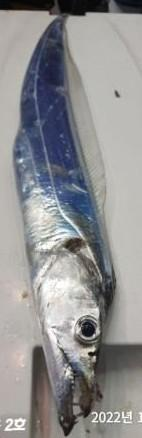fish: (14, 16, 115, 435)
